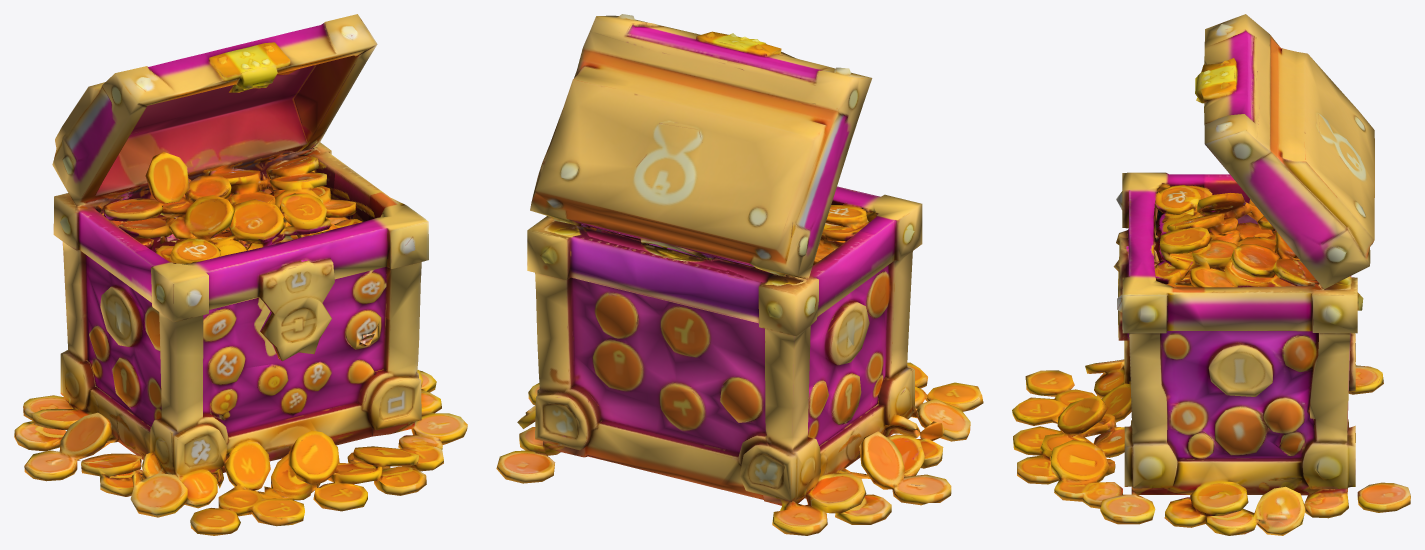
The model's file is Meshy_AI_loot_box_treasure_bo_0107152422_texture.obj.
3 renders of one model, left to right at view 1: azimuth 30°, elevation 25°; view 2: azimuth 150°, elevation 25°; view 3: azimuth 270°, elevation 25°, orthographic. The views are drawn at different scales.
Parts seen in each view (by area): view 1: Meshy_AI_loot_box_treasure_bo_0107152422_texture; view 2: Meshy_AI_loot_box_treasure_bo_0107152422_texture; view 3: Meshy_AI_loot_box_treasure_bo_0107152422_texture.
Boxes of the visible parts, x1=… form: Meshy_AI_loot_box_treasure_bo_0107152422_texture: x1=14, y1=14, x2=467, y2=535; Meshy_AI_loot_box_treasure_bo_0107152422_texture: x1=496, y1=14, x2=983, y2=535; Meshy_AI_loot_box_treasure_bo_0107152422_texture: x1=1012, y1=14, x2=1410, y2=535.
Bounding box in the file's own units: 1.91 × 1.78 × 1.68.
Materials: 1 (1 with a texture image).
